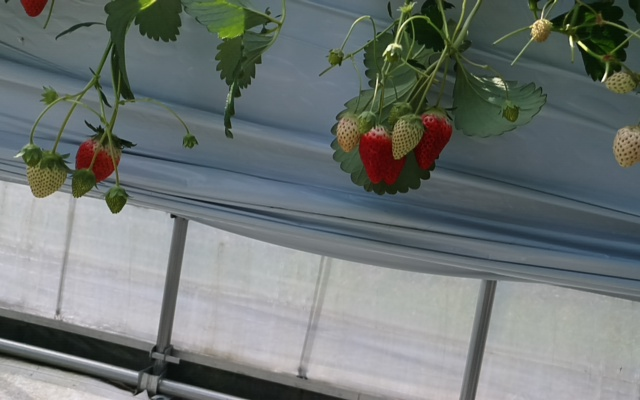GreenStrawberry: (24, 145, 67, 199), (390, 107, 424, 159), (610, 120, 640, 172), (334, 108, 362, 156), (602, 64, 640, 96), (102, 184, 130, 214), (68, 171, 97, 199), (529, 17, 554, 45)
MatureStrawberry: (358, 126, 405, 188), (74, 128, 125, 185), (416, 102, 455, 175)
